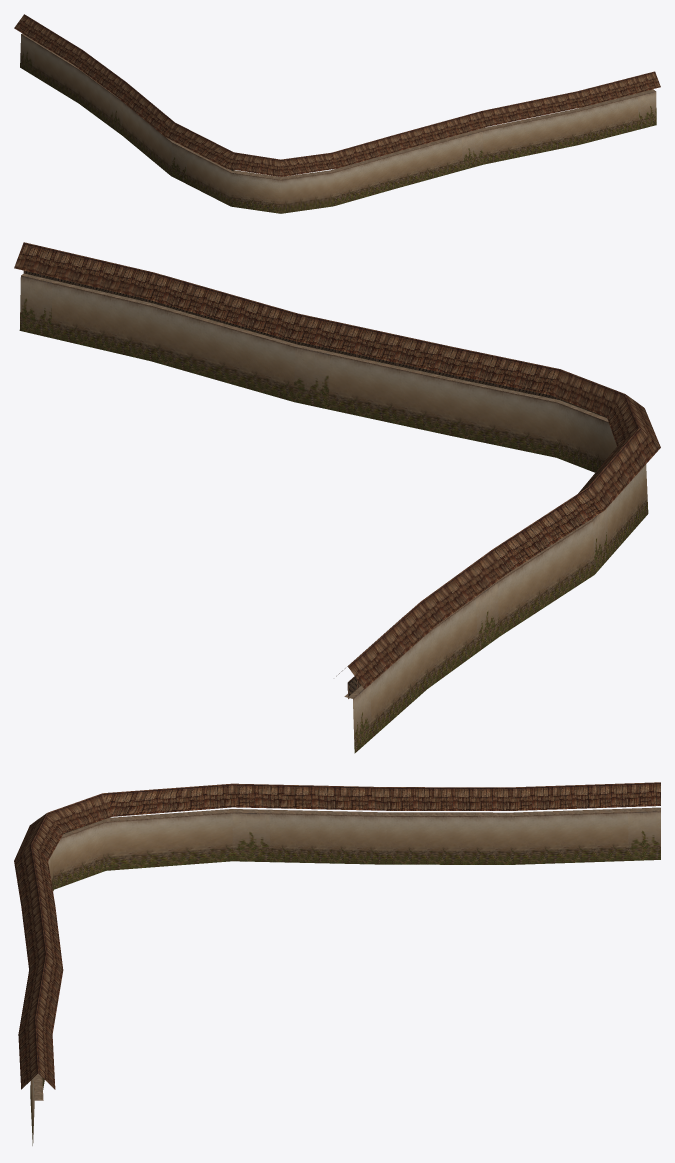
The model's file is ti_wall_b.glb.
3 views of the same model, one above another, from view 1: azimuth 30°, elevation 25°; view 2: azimuth 150°, elevation 25°; view 3: azimuth 270°, elevation 25° (orthographic). The views are drawn at different scales.
Visible parts, largest first — view 1: TI_Wall_B; view 2: TI_Wall_B; view 3: TI_Wall_B.
Part boxes in pixels (x1,y1,x2,y2): TI_Wall_B: [14, 14, 660, 213]; TI_Wall_B: [14, 242, 660, 753]; TI_Wall_B: [14, 782, 660, 1145].
Size of the model in its own units: 22.79 by 2.69 by 20.88.
Materials: 6 (6 with a texture image).
